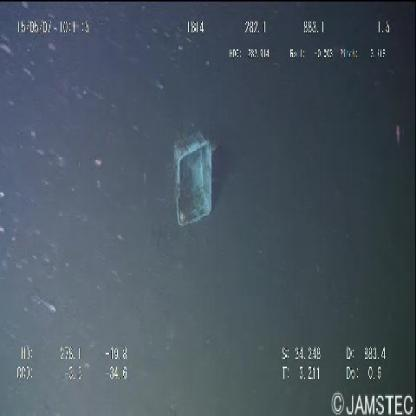Rác: (170, 123, 218, 234)
